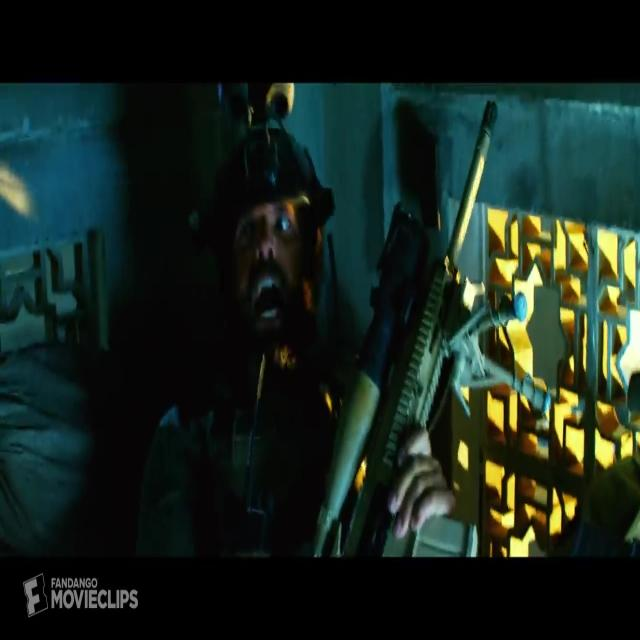Weapon: (310, 78, 545, 598)
